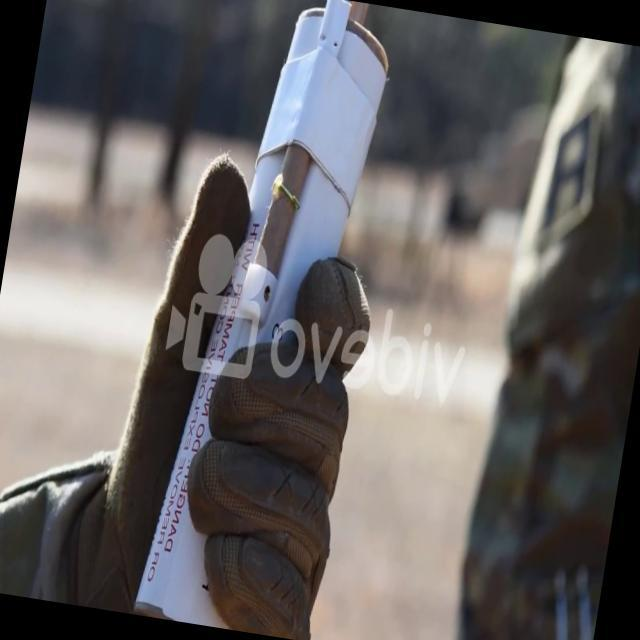grenade: (136, 0, 398, 640)
